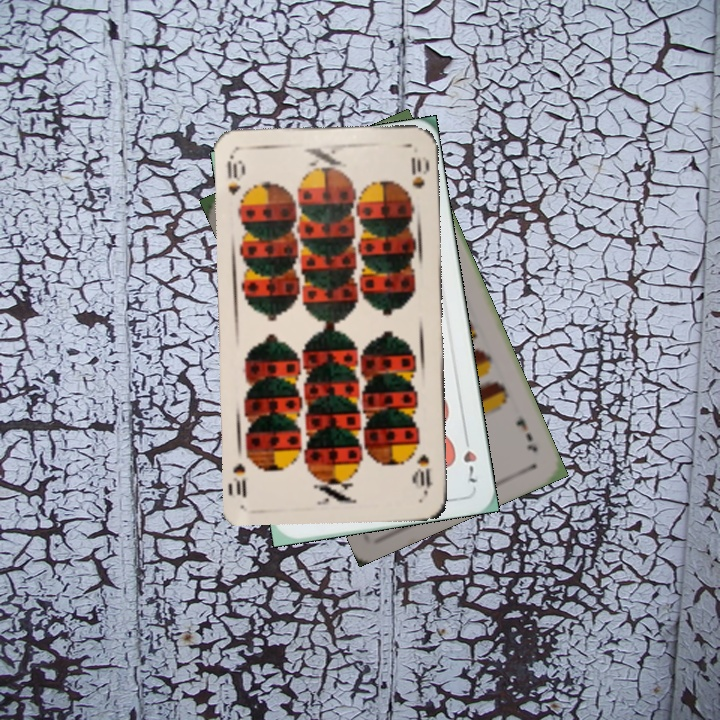E7: (511, 414, 541, 455)
H7: (459, 429, 484, 486)
S10: (223, 152, 246, 197), (413, 450, 434, 496)
